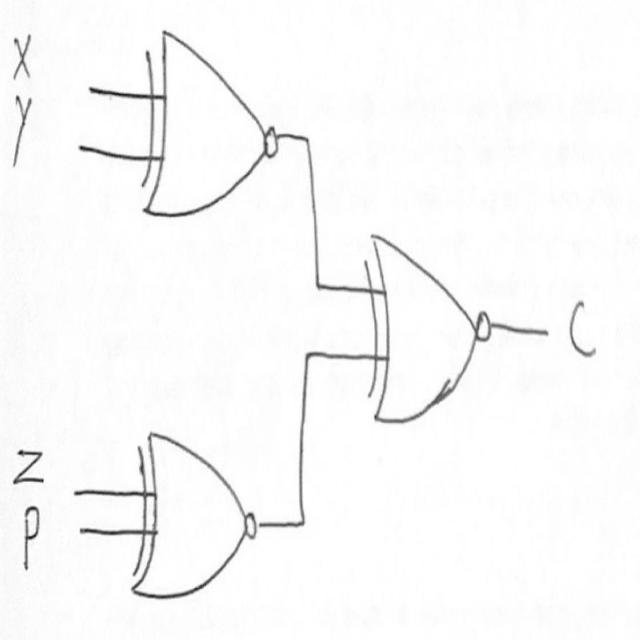XNOR: (356, 200, 497, 442), (134, 7, 278, 240), (124, 401, 271, 618)
